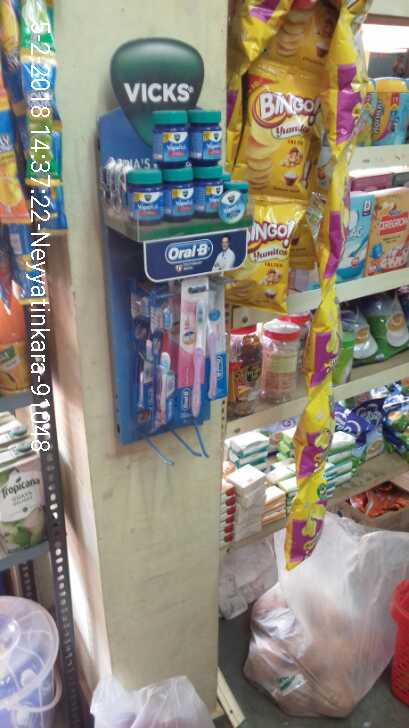pharmacy: (176, 276, 209, 418), (151, 109, 189, 168), (127, 167, 164, 227), (189, 108, 224, 167), (191, 165, 226, 222), (161, 167, 194, 220)
